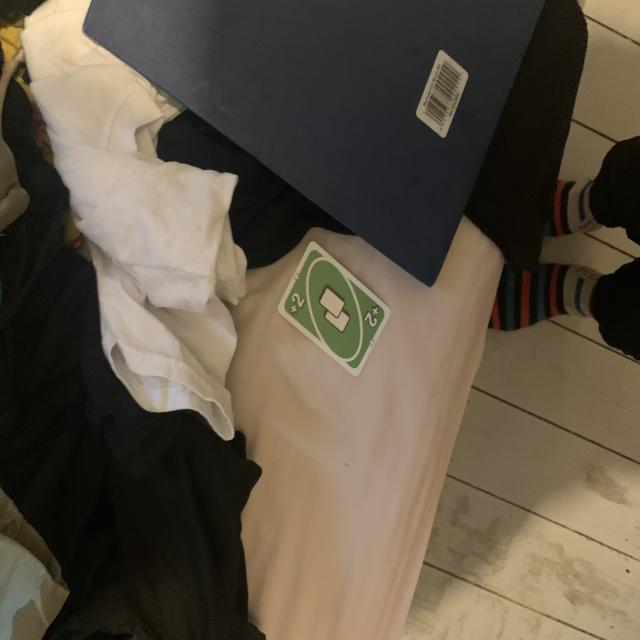lgreen-20: (284, 290, 309, 318)
